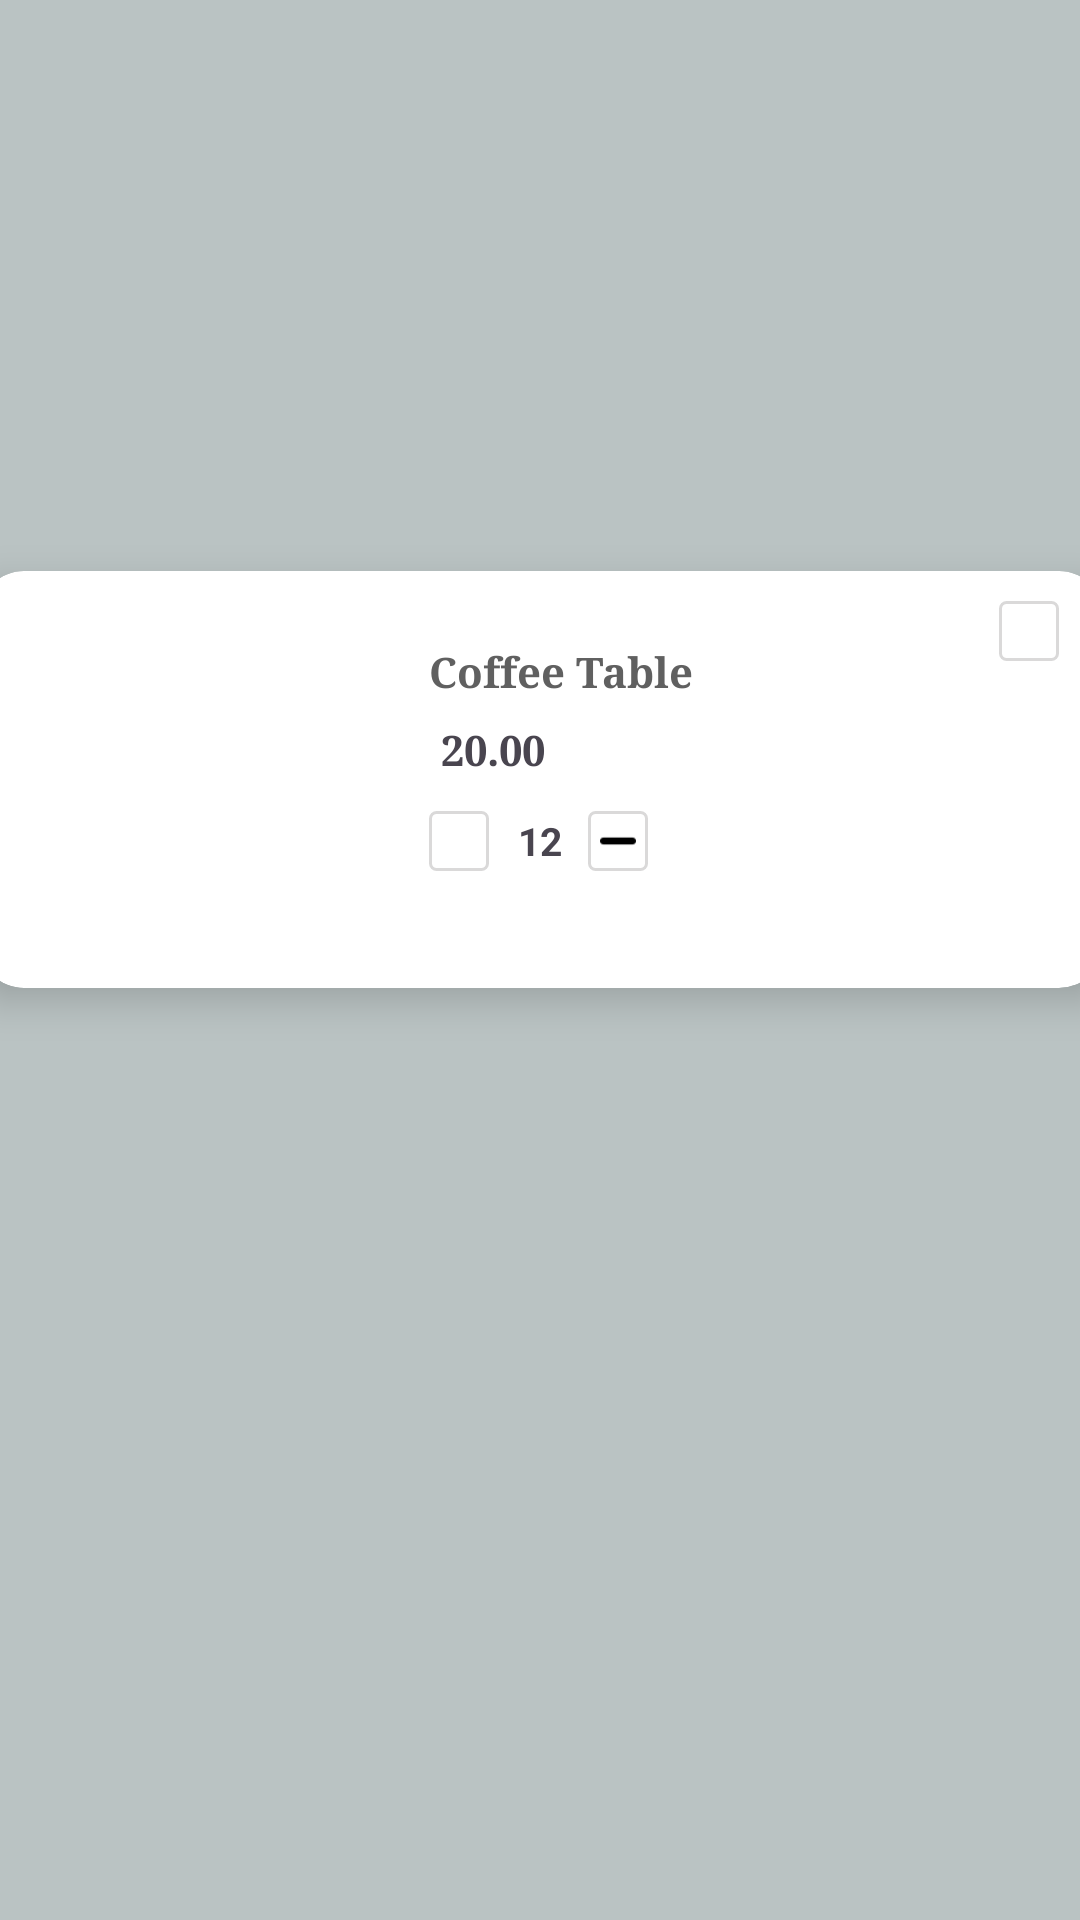

Where to tap for icons on this 1080*1920 app screen, as [x,y]:
minus: [618,841]
